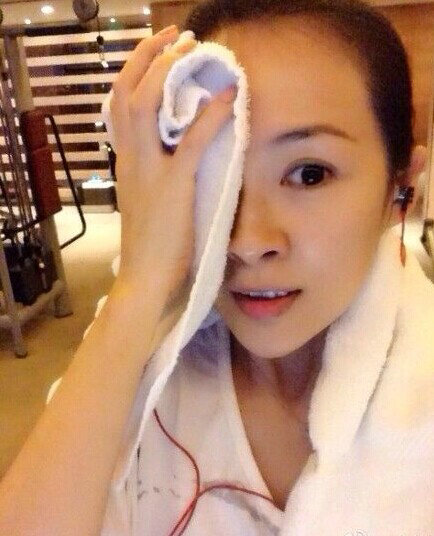face: (164, 33, 381, 361)
